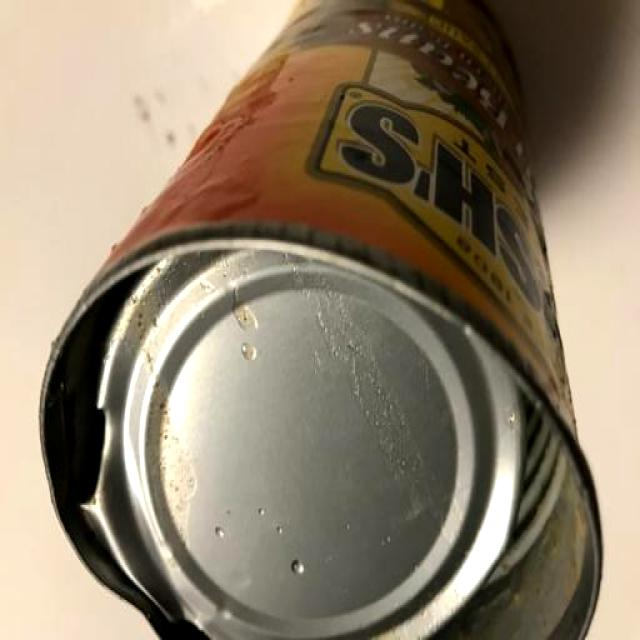Metal: (32, 0, 609, 640)
